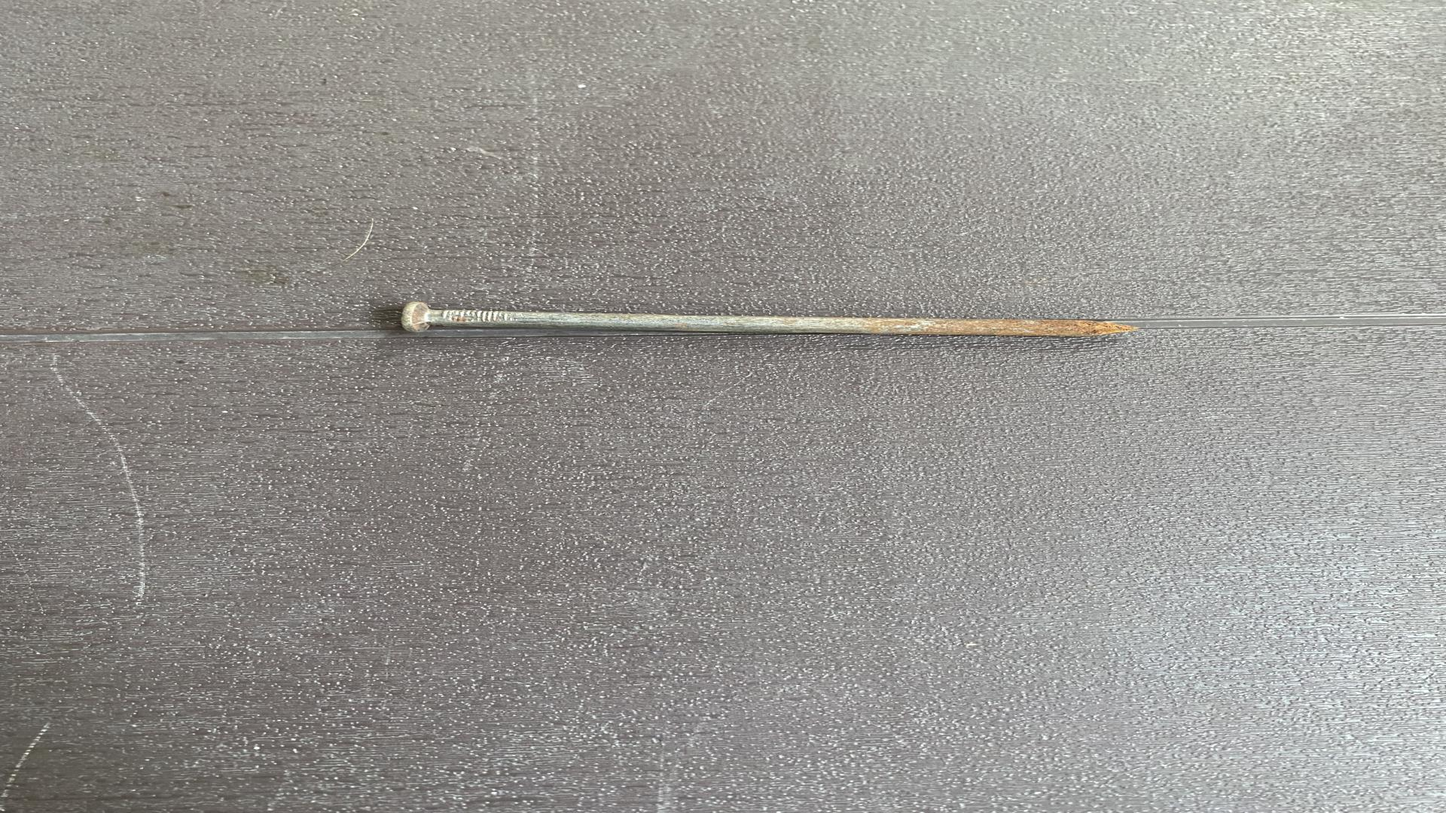nail: (335, 278, 1164, 359)
